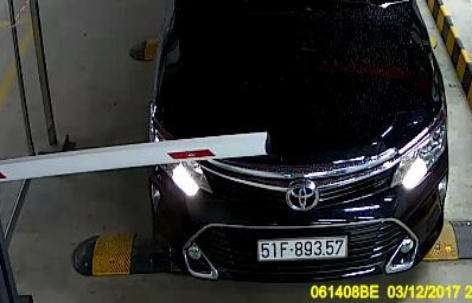plate: (253, 234, 351, 262)
